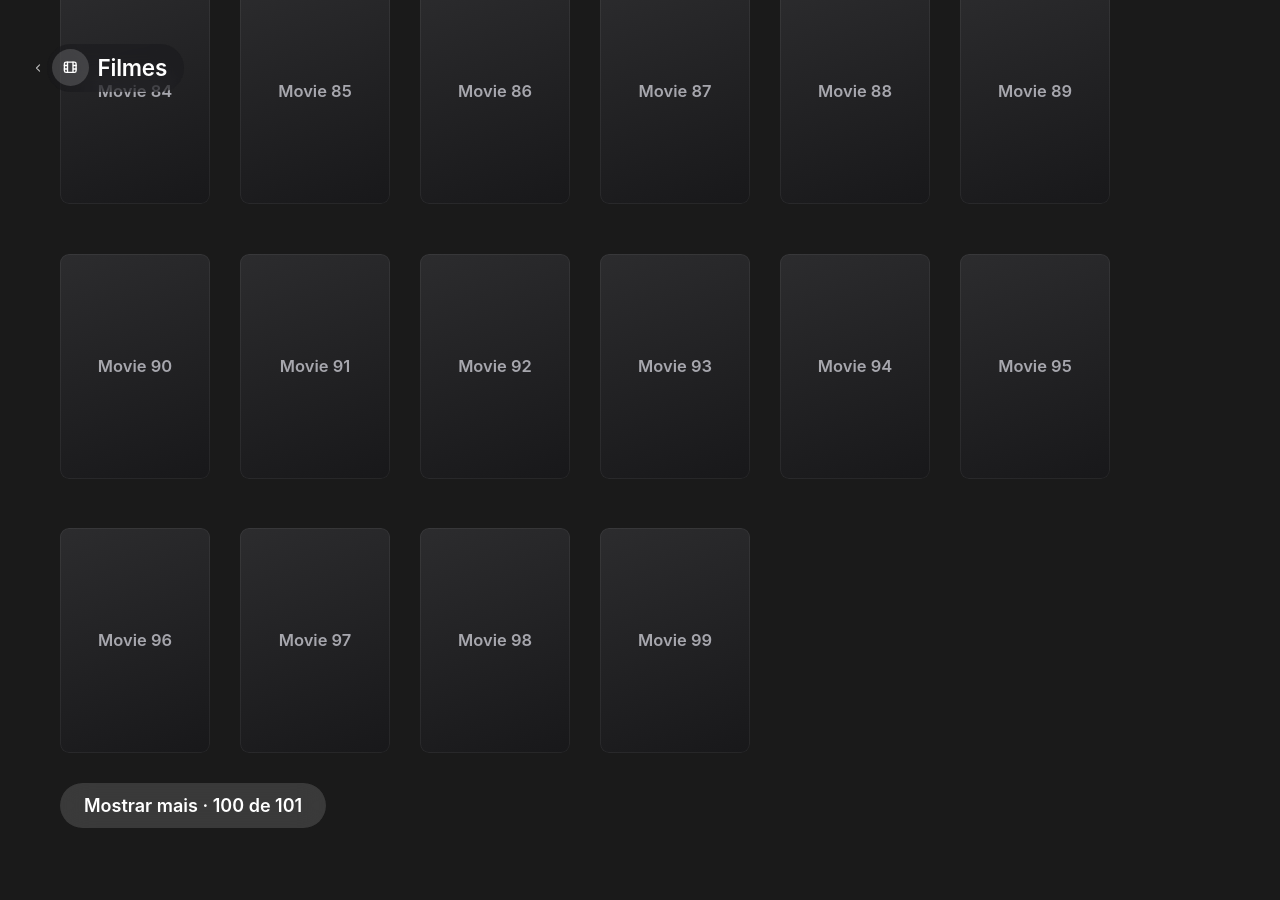
Test case: Luma preview › pages a large library with Show more instead of truncating it
(page scrolled)
Step 1. Click the button "Mostrar mais · 100 de 101" → [193, 806], box 60,783 -> 326,828
(page scrolled)
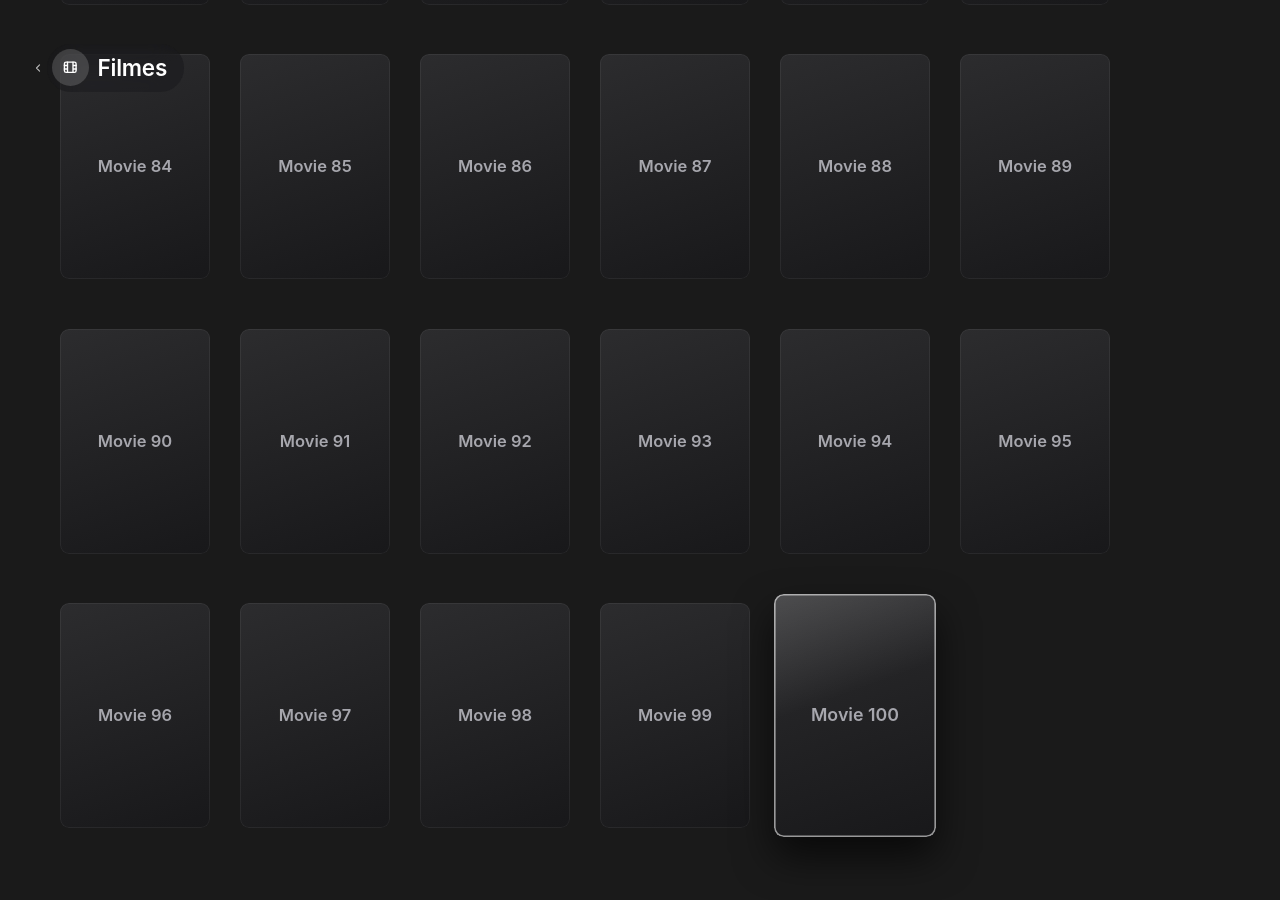
Result: the button "Mostrar mais" is gone
